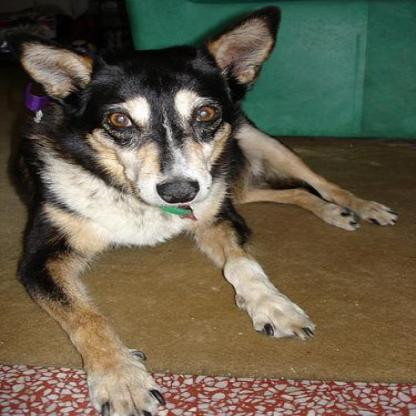kelpie: (13, 4, 400, 414)
